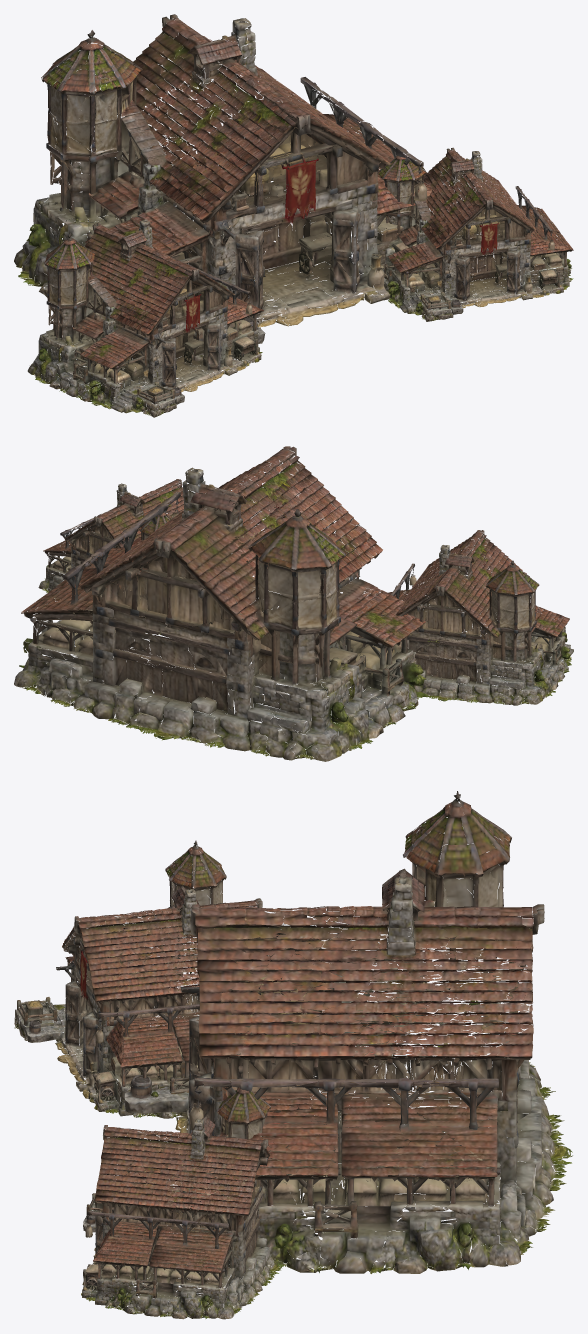
The model's file is Valoria_Granero_RCFv1.glb.
3 renders of one model, top to bottom at view 1: azimuth 30°, elevation 25°; view 2: azimuth 150°, elevation 25°; view 3: azimuth 270°, elevation 25°, orthographic. The views are drawn at different scales.
Parts seen in each view (by area): view 1: Granero main hall · rich 00, Granero west storage annex · rich 00, Granero east storage annex · rich 00; view 2: Granero main hall · rich 00, Granero west storage annex · rich 00, Granero east storage annex · rich 00; view 3: Granero main hall · rich 00, Granero east storage annex · rich 00, Granero west storage annex · rich 00.
Part boxes in pixels (x1=…): Granero main hall · rich 00: x1=14, y1=14, x2=454, y2=364; Granero west storage annex · rich 00: x1=27, y1=219, x2=263, y2=417; Granero east storage annex · rich 00: x1=364, y1=147, x2=573, y2=321; Granero main hall · rich 00: x1=14, y1=446, x2=442, y2=761; Granero west storage annex · rich 00: x1=358, y1=530, x2=573, y2=705; Granero east storage annex · rich 00: x1=38, y1=479, x2=206, y2=634; Granero main hall · rich 00: x1=121, y1=791, x2=572, y2=1273; Granero east storage annex · rich 00: x1=81, y1=1087, x2=281, y2=1319; Granero west storage annex · rich 00: x1=14, y1=840, x2=262, y2=1118.
Bounding box in the file's own units: 6.78 × 2.91 × 4.87.
Materials: 3 (3 with a texture image).
